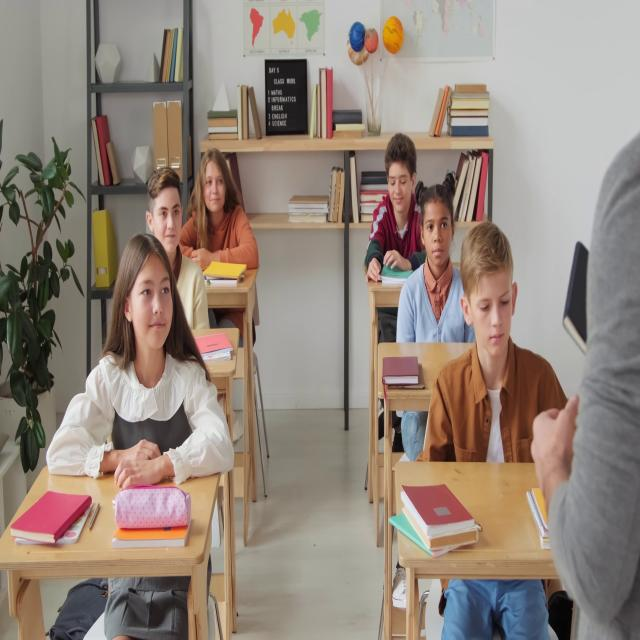listening: (413, 227, 568, 627), (48, 234, 236, 482), (182, 146, 261, 340), (396, 186, 472, 355), (143, 168, 211, 333)
reading: (361, 132, 422, 287)
